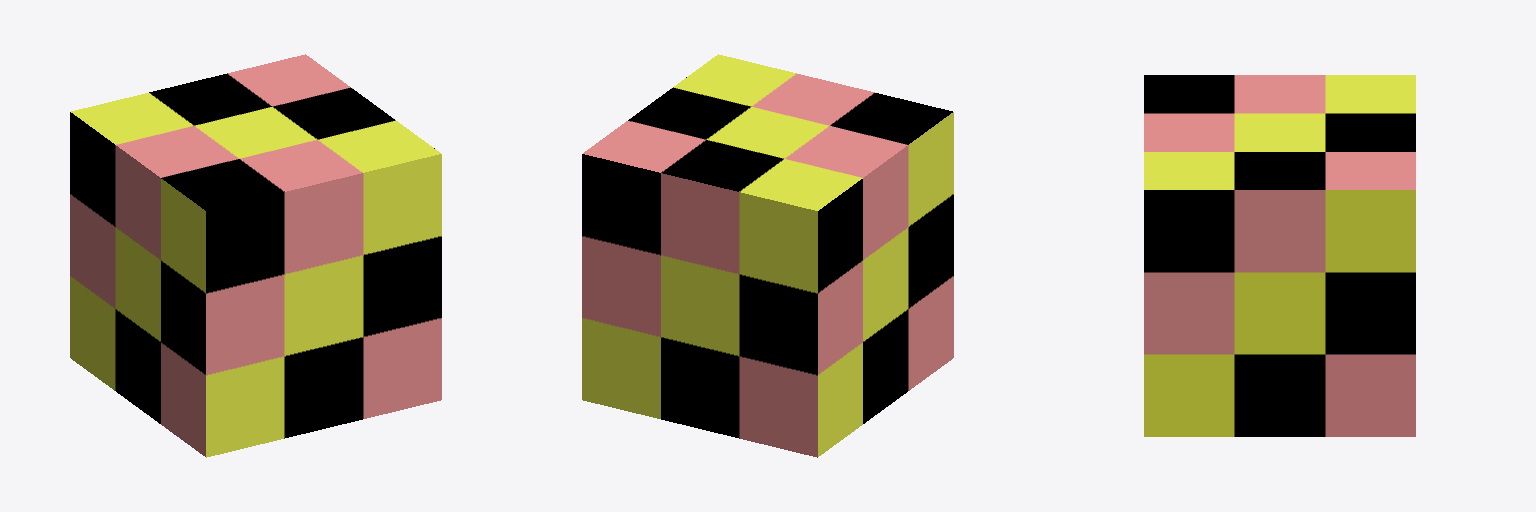
3 renders of one model, left to right at view 1: azimuth 30°, elevation 25°; view 2: azimuth 150°, elevation 25°; view 3: azimuth 270°, elevation 25°, orthographic.
Parts seen in each view (by area): view 1: Cube; view 2: Cube; view 3: Cube.
Part boxes in pixels (x1,y1,x2,y2): Cube: (70, 54, 441, 457); Cube: (582, 54, 953, 457); Cube: (1144, 75, 1415, 436).
Bounding box in the file's own units: 2 × 2 × 2.
Materials: 1 (1 with a texture image).